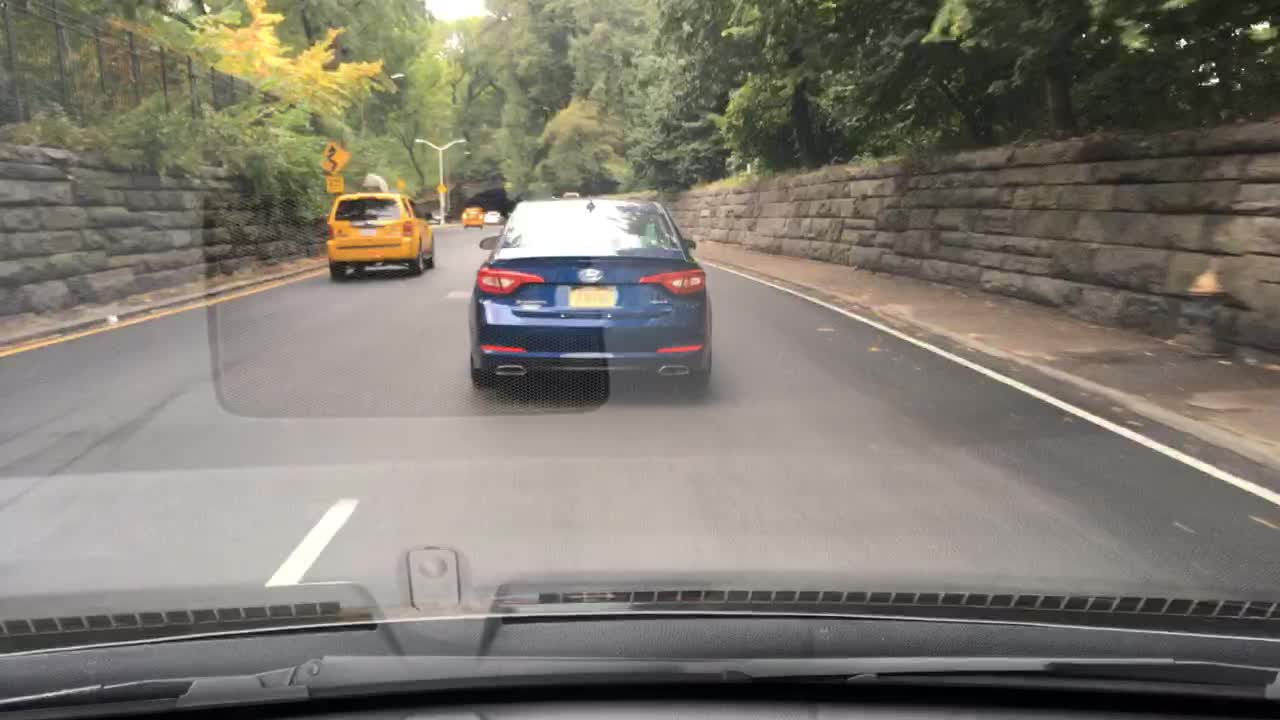car: (469, 192, 712, 393), (324, 172, 437, 277), (466, 210, 484, 229), (484, 210, 502, 225)
traffic sign: (316, 141, 349, 169), (323, 171, 345, 192), (434, 181, 447, 194), (393, 176, 401, 192)
